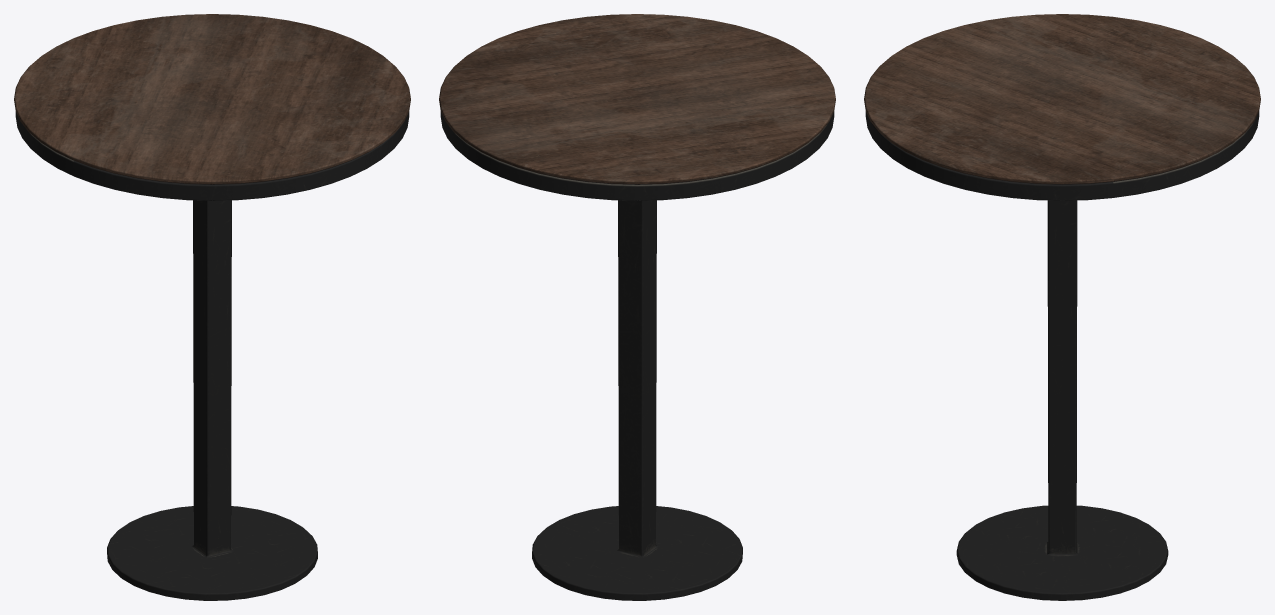
The model's file is SM_Table_02_A.fbx.
3 views of the same model, side by side, from view 1: azimuth 30°, elevation 25°; view 2: azimuth 150°, elevation 25°; view 3: azimuth 270°, elevation 25° (orthographic).
Parts seen in each view (by area): view 1: SM_Table_02_A_LOD0; view 2: SM_Table_02_A_LOD0; view 3: SM_Table_02_A_LOD0.
Boxes of the visible parts, <box> form: SM_Table_02_A_LOD0: <box>14,14,410,600</box>; SM_Table_02_A_LOD0: <box>439,14,835,600</box>; SM_Table_02_A_LOD0: <box>864,14,1260,600</box>.
Bounding box in the file's own units: 72.26 × 72.26 × 92.4.
